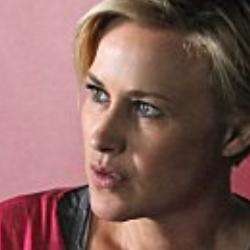face: (63, 2, 242, 221)
